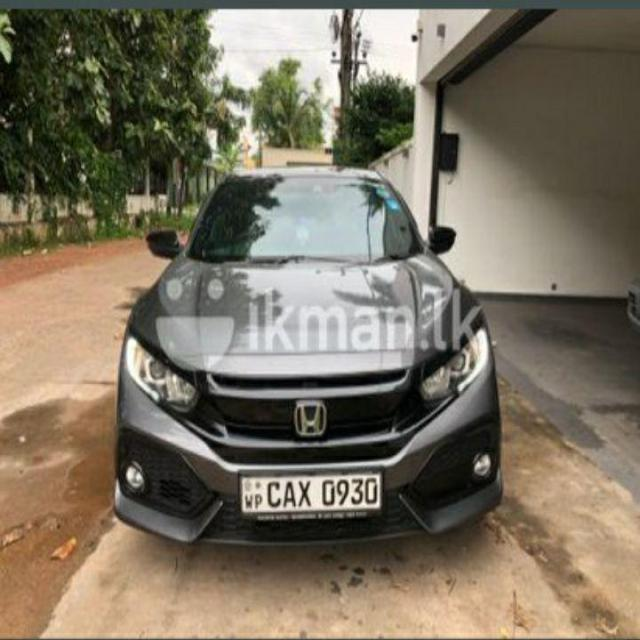license-plate: (238, 472, 380, 508)
